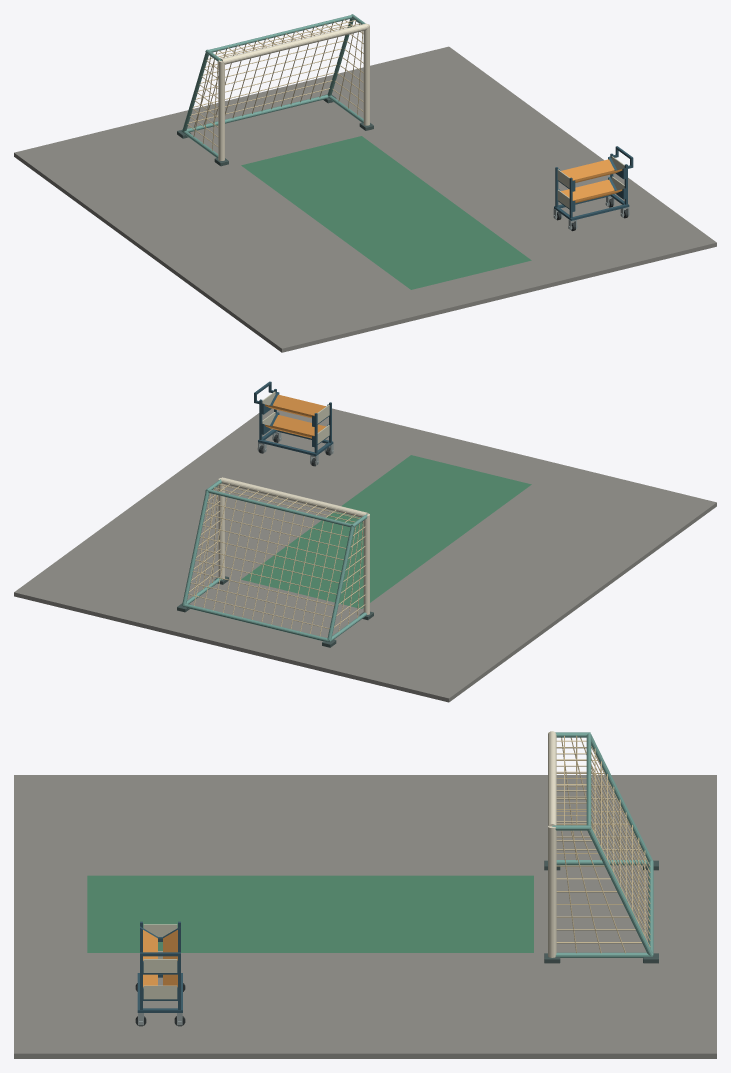
3 views of the same model, one above another, from view 1: azimuth 30°, elevation 25°; view 2: azimuth 150°, elevation 25°; view 3: azimuth 270°, elevation 25° (orthographic). The views are drawn at different scales.
Parts seen in each view (by area): view 1: SCENE_ONLY__ContinuousApproachFloor, goal__FrontCrossbar, goal__FrontPost_Left, goal__FrontPost_Right, goal__RearGroundCrossbar, trolley__Tier_2_BackContinuousInclinedRail, goal__RearUpperCrossbar, trolley__Tier_1_BackContinuousInclinedRail; view 2: SCENE_ONLY__ContinuousApproachFloor, goal__FrontCrossbar, goal__RearGroundCrossbar, goal__FrontPost_Left, goal__RearUpperCrossbar, trolley__Tier_2_FrontContinuousInclinedRail, goal__FrontPost_Right, trolley__Tier_1_FrontContinuousInclinedRail, goal__RearStay_Left, goal__RearStay_Right; view 3: SCENE_ONLY__ContinuousApproachFloor, goal__FrontPost_Right, goal__FrontCrossbar, goal__RearStay_Right, goal__RearStay_Left, goal__RearUpperCrossbar, goal__GroundReturn_Right, trolley__Tier_1_RightIndependentLowStop.
Part boxes in pixels (<box>): SCENE_ONLY__ContinuousApproachFloor: <box>14,46,716,352</box>; goal__FrontCrossbar: <box>220,23,368,64</box>; goal__FrontPost_Left: <box>218,60,224,160</box>; goal__FrontPost_Right: <box>363,24,369,125</box>; goal__RearGroundCrossbar: <box>186,94,328,131</box>; trolley__Tier_2_BackContinuousInclinedRail: <box>561,159,614,180</box>; goal__RearUpperCrossbar: <box>209,15,352,52</box>; trolley__Tier_1_BackContinuousInclinedRail: <box>561,179,614,200</box>; SCENE_ONLY__ContinuousApproachFloor: <box>14,408,716,702</box>; goal__FrontCrossbar: <box>220,477,367,517</box>; goal__RearGroundCrossbar: <box>183,603,328,641</box>; goal__FrontPost_Left: <box>363,513,369,614</box>; goal__RearUpperCrossbar: <box>207,489,351,527</box>; trolley__Tier_2_FrontContinuousInclinedRail: <box>272,394,325,416</box>; goal__FrontPost_Right: <box>218,478,224,579</box>; trolley__Tier_1_FrontContinuousInclinedRail: <box>272,415,326,436</box>; goal__RearStay_Left: <box>327,526,354,640</box>; goal__RearStay_Right: <box>182,490,209,604</box>; SCENE_ONLY__ContinuousApproachFloor: <box>14,775,716,1058</box>; goal__FrontPost_Right: <box>548,826,556,957</box>; goal__FrontCrossbar: <box>548,731,556,826</box>; goal__RearStay_Right: <box>587,827,653,955</box>; goal__RearStay_Left: <box>591,734,652,861</box>; goal__RearUpperCrossbar: <box>586,733,591,826</box>; goal__GroundReturn_Right: <box>555,952,652,957</box>; trolley__Tier_1_RightIndependentLowStop: <box>143,985,177,999</box>.
Bounding box in the file's own units: 9 × 2.14 × 9.6.
